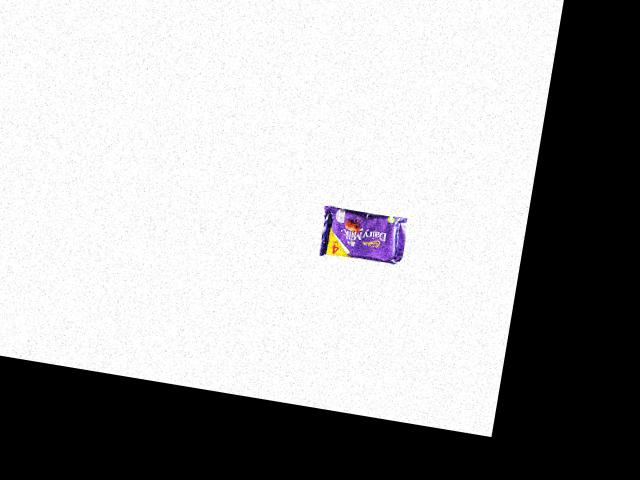chocolate: (307, 196, 413, 268)
